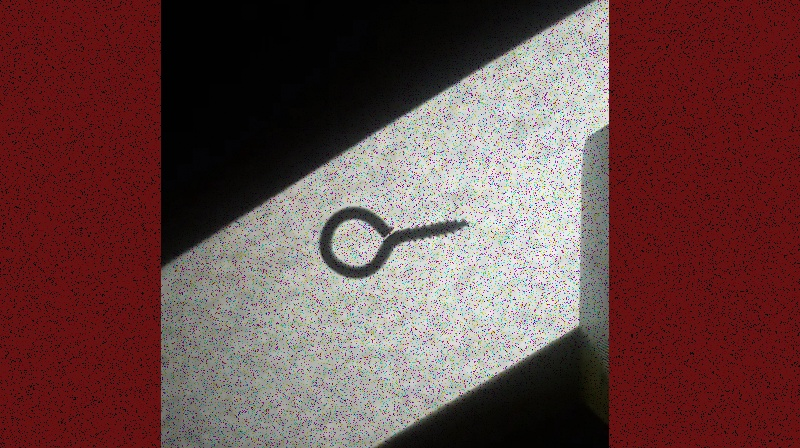O001: (317, 200, 472, 282)
